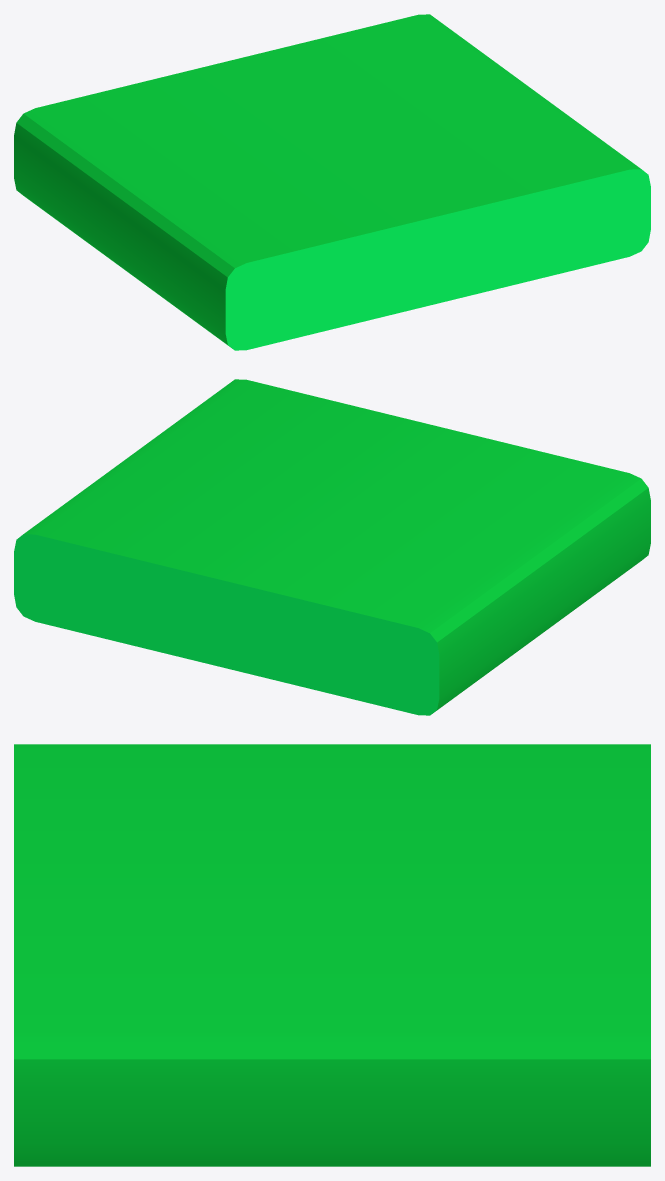
3 renders of one model, top to bottom at view 1: azimuth 30°, elevation 25°; view 2: azimuth 150°, elevation 25°; view 3: azimuth 270°, elevation 25°, orthographic. The views are drawn at different scales.
Visible parts, largest first — view 1: -_Soul_Green; view 2: -_Soul_Green; view 3: -_Soul_Green.
Boxes of the visible parts, <box> form: -_Soul_Green: <box>14,14,650,350</box>; -_Soul_Green: <box>14,379,650,715</box>; -_Soul_Green: <box>14,744,650,1166</box>.
Size of what is drawn, in the model's own units: 0.0523 by 0.0102 by 0.045.
2 materials, 2 textured.
